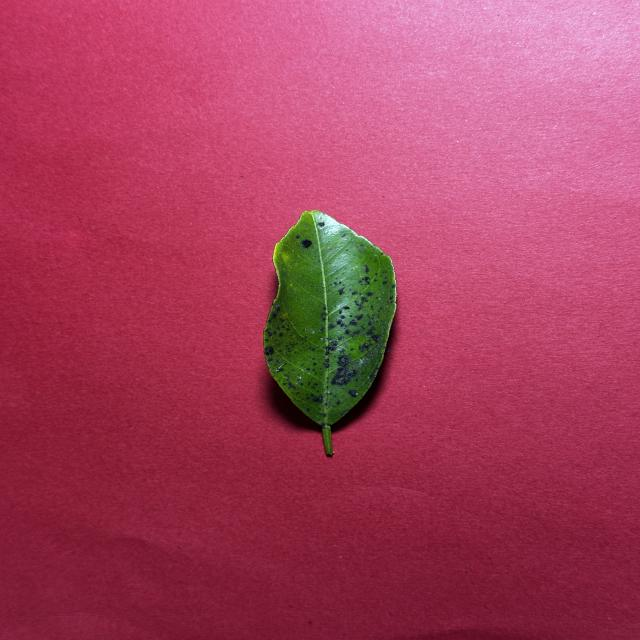sooty_mold: (263, 211, 396, 455)
